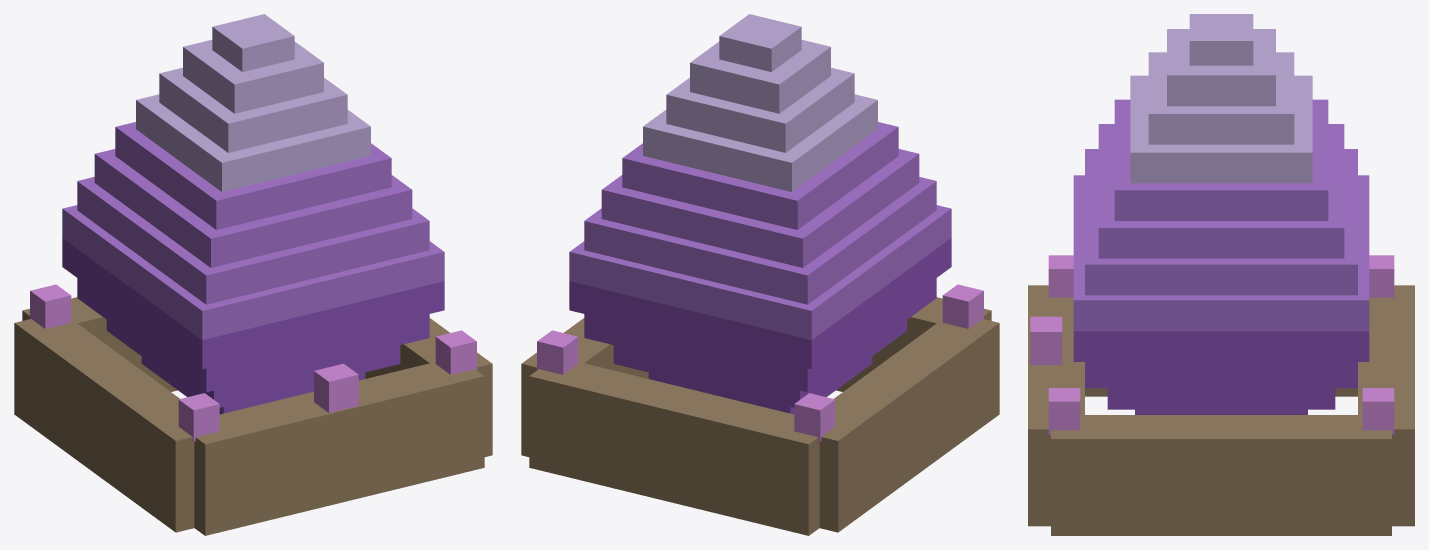
File: legendary_egg.glb
3 views of the same model, side by side, from view 1: azimuth 30°, elevation 25°; view 2: azimuth 150°, elevation 25°; view 3: azimuth 270°, elevation 25° (orthographic). The views are drawn at different scales.
Bounding box in the file's own units: 17 × 20.7 × 17.
